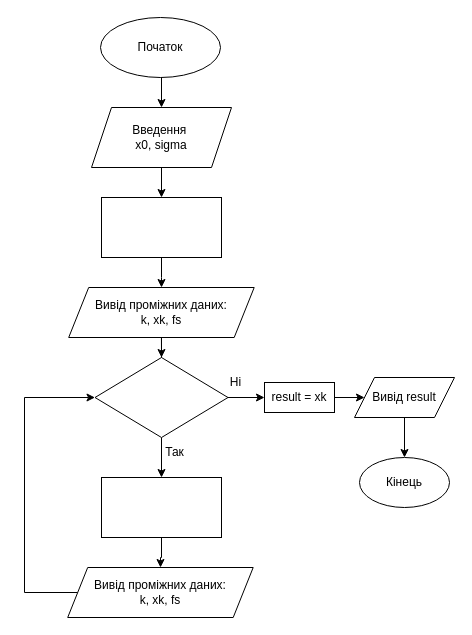
This 472x635 diagram has some shape labels left out. Each missing label, with the box of its shape:
k = 0 xk = x0 fs = f'(x) fss = f''(x): (100, 196, 222, 258)
xk = xk - fs/fss fs = f_().subs('x', xk) k = k + 1: (100, 476, 222, 538)
|fs| > sigma: (94, 356, 228, 438)
